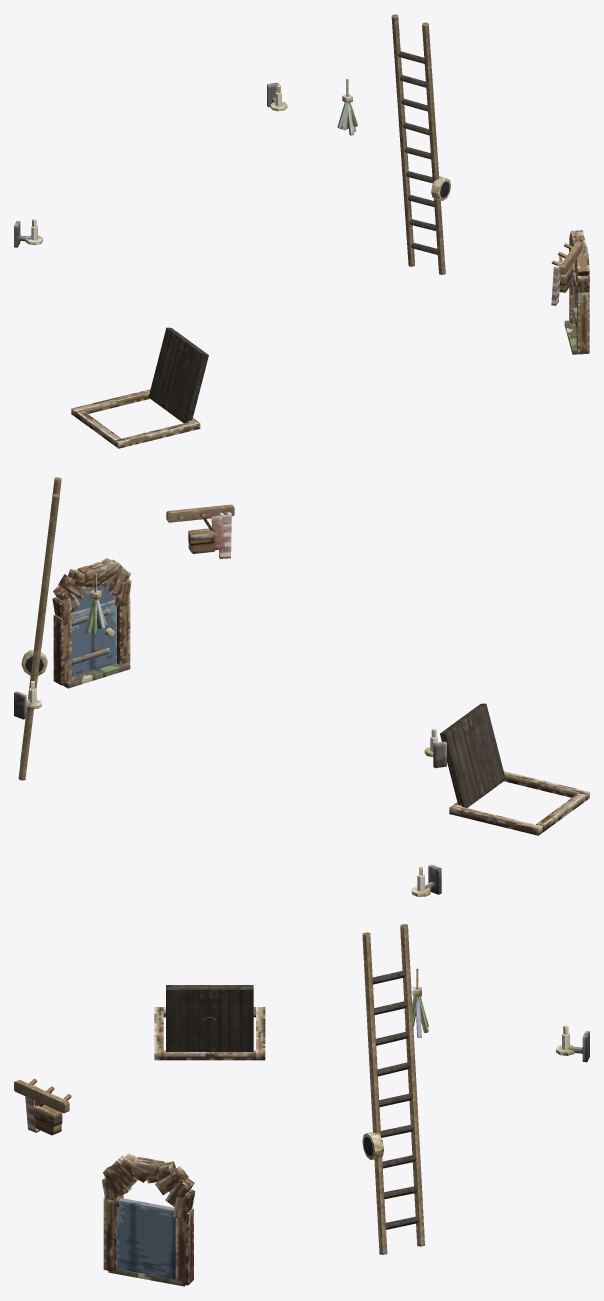
File: room_f2.glb
The picture shows the model from 3 angles, top to bottom: view 1: azimuth 30°, elevation 25°; view 2: azimuth 150°, elevation 25°; view 3: azimuth 270°, elevation 25°; orthographic projection. The views are drawn at different scales.
Parts seen in each view (by area): view 1: tile_wood, solid; view 2: tile_wood, solid, tile_stone; view 3: tile_wood, solid.
Boxes of the visible parts, x1,y1,x2,y2 form: tile_wood: [71, 14, 589, 448]; solid: [14, 78, 576, 327]; tile_wood: [18, 477, 589, 835]; solid: [14, 512, 446, 768]; tile_stone: [62, 662, 130, 688]; tile_wood: [14, 924, 424, 1285]; solid: [25, 864, 589, 1279].
Size of the model in its own units: 140 by 73.69 by 125.
Materials: 2 (2 with a texture image).
